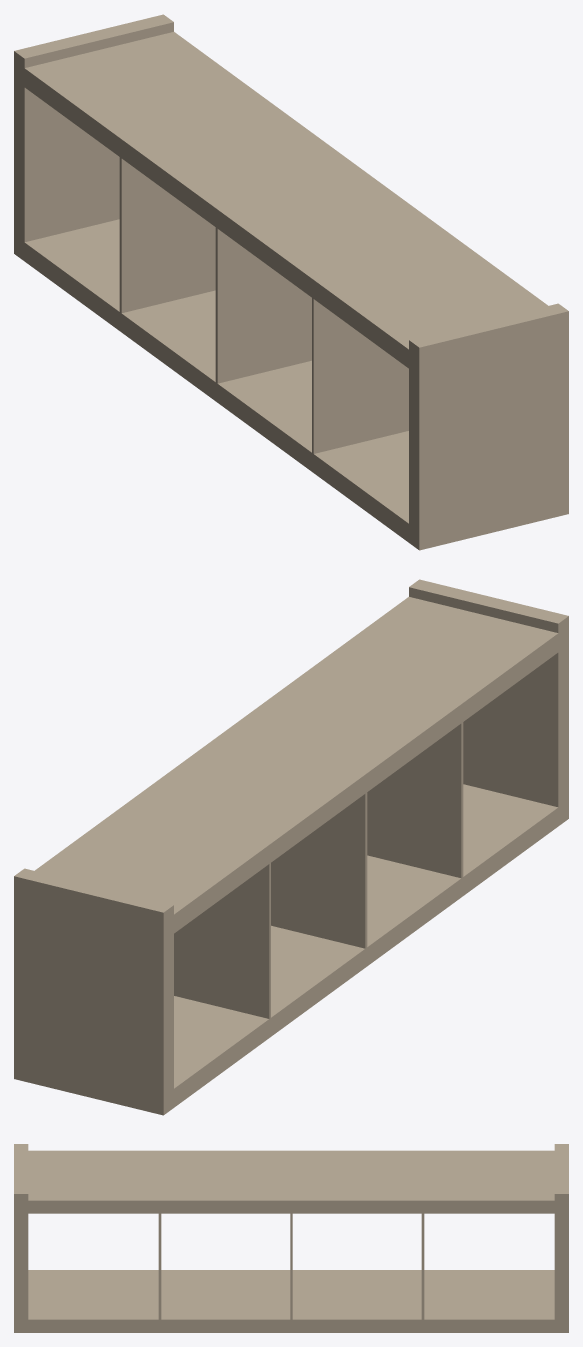
The model's file is 3dcodebench_TVStand_seed0.glb.
3 views of the same model, one above another, from view 1: azimuth 30°, elevation 25°; view 2: azimuth 150°, elevation 25°; view 3: azimuth 270°, elevation 25° (orthographic). The views are drawn at different scales.
Visible parts, largest first — view 1: object; view 2: object; view 3: object.
Boxes of the visible parts, x1,y1,x2,y2 form: object: (14,14,568,550); object: (14,579,568,1115); object: (14,1144,568,1332).
Bounding box in the file's own units: 0.3823 × 0.4953 × 1.79.
